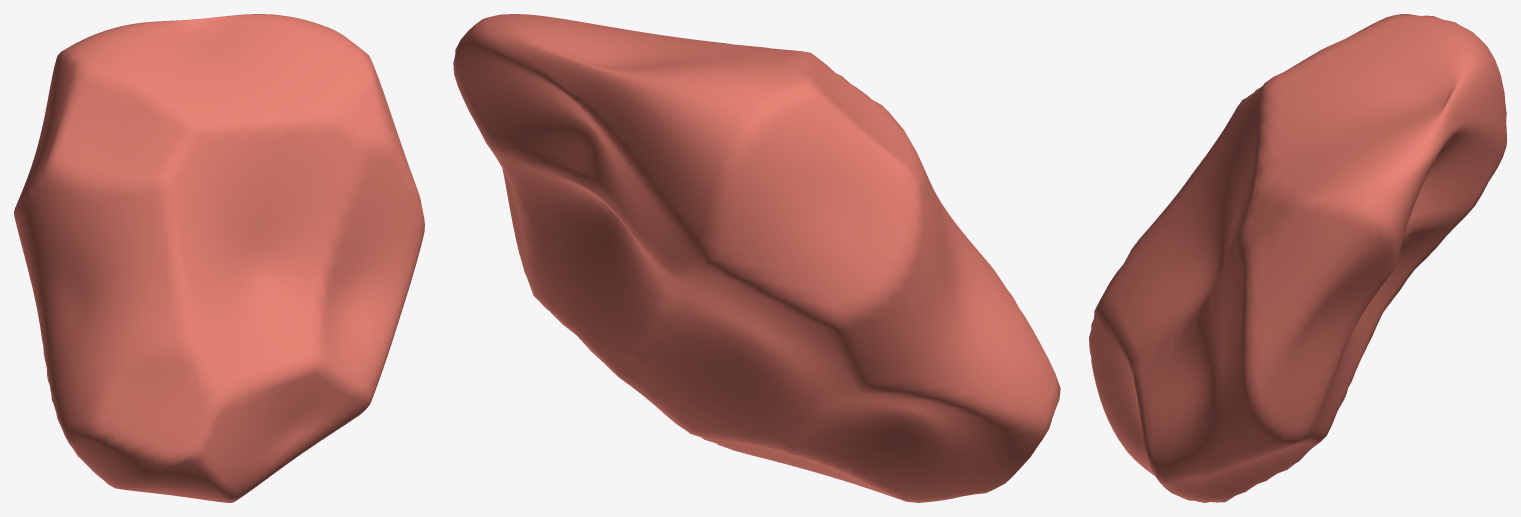
Rendered from Красный камень (1).fbx.
3 renders of one model, left to right at view 1: azimuth 30°, elevation 25°; view 2: azimuth 150°, elevation 25°; view 3: azimuth 270°, elevation 25°, orthographic. The views are drawn at different scales.
Parts seen in each view (by area): view 1: Cube; view 2: Cube; view 3: Cube.
Boxes of the visible parts, x1,y1,x2,y2 form: Cube: (14,14,424,502); Cube: (453,14,1060,502); Cube: (1089,14,1506,502).
Bounding box in the file's own units: 258 × 250 × 212.
